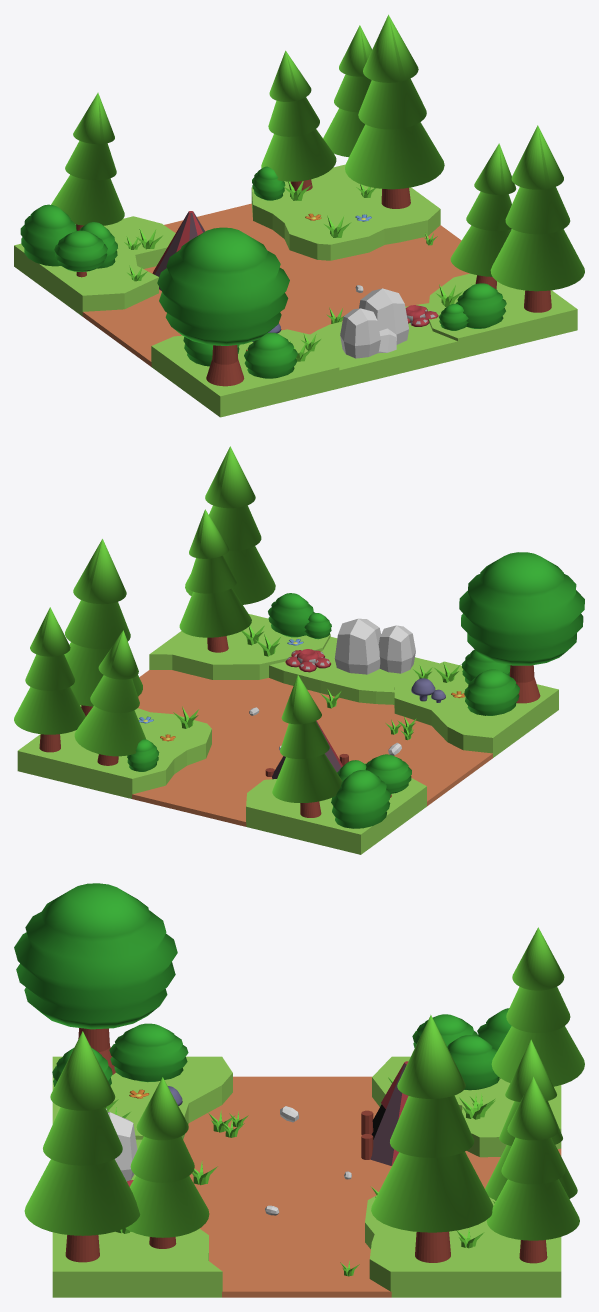
Rendered from jungle level set - 3 Way (3).fbx.
The picture shows the model from 3 angles, top to bottom: view 1: azimuth 30°, elevation 25°; view 2: azimuth 150°, elevation 25°; view 3: azimuth 270°, elevation 25°; orthographic projection. The views are drawn at different scales.
Visible parts, largest first — view 1: land_platform, tree_003, tree_002, tree_006, tree, tree_007, tree_005, tree_001, bush_003, bush_005, tree_004, stone (+7 smaller); view 2: land_platform, tree_003, tree_002, tree_001, tree_005, tree_007, tree_006, tree, bush_003, stone_004, bush, stone (+7 smaller); view 3: land_platform, tree_003, tree_002, tree_006, tree_001, tree_005, tree_007, bush, tree, camp, bush_001, stone_004 (+3 smaller).
Boxes of the visible parts, x1,y1,x2,y2 form: land_platform: [14, 164, 577, 417]; tree_003: [157, 227, 289, 386]; tree_002: [345, 14, 444, 208]; tree_006: [490, 125, 584, 312]; tree: [261, 50, 336, 191]; tree_007: [51, 92, 124, 230]; tree_005: [450, 143, 516, 288]; tree_001: [323, 25, 372, 157]; bush_003: [20, 204, 77, 266]; bush_005: [244, 332, 297, 378]; tree_004: [54, 230, 107, 277]; stone: [340, 308, 380, 358]; land_platform: [17, 614, 558, 854]; tree_003: [459, 552, 584, 703]; tree_002: [64, 539, 142, 716]; tree_001: [14, 607, 85, 752]; tree_005: [179, 509, 251, 652]; tree_007: [272, 675, 342, 817]; tree_006: [185, 446, 275, 604]; tree: [74, 630, 145, 765]; bush_003: [331, 770, 390, 828]; stone_004: [334, 618, 381, 674]; bush: [464, 669, 519, 715]; stone: [378, 625, 415, 673]; land_platform: [52, 1056, 561, 1297]; tree_003: [14, 883, 177, 1074]; tree_002: [371, 1015, 493, 1262]; tree_006: [24, 1031, 140, 1262]; tree_001: [487, 1077, 579, 1263]; tree_005: [125, 1077, 209, 1248]; tree_007: [491, 927, 584, 1086]; bush: [109, 1023, 188, 1082]; tree: [485, 1039, 577, 1200]; camp: [361, 1061, 408, 1165]; bush_001: [447, 1035, 499, 1090]; stone_004: [107, 1112, 137, 1180].
Bounding box in the file's own units: 17.34 × 8.97 × 17.03.
